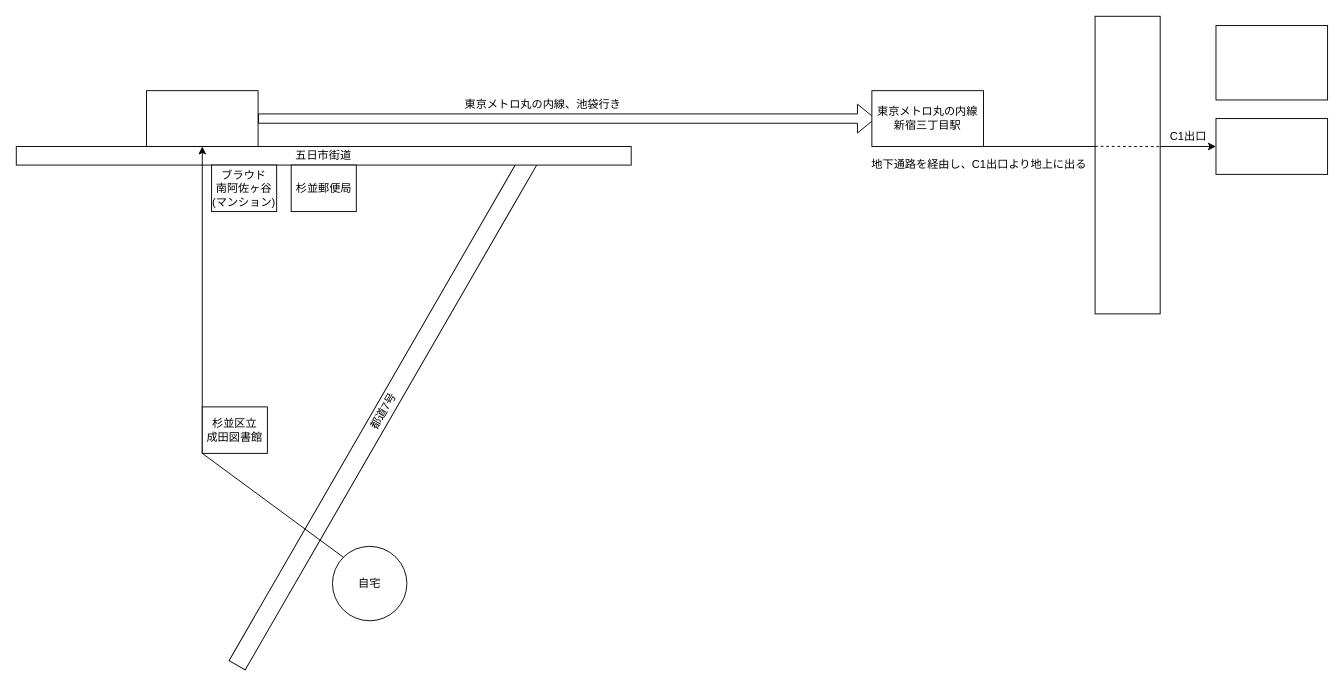
The diagram is 1344 pixels wide and 686 high, and some of its shapes have lost their labels. Here are the shapes that lost their labels. From the top down, the centre of each, then its label:
At (x=1271, y=62): "新宿バルト9 (映画館)".
At (x=202, y=118): "東京メトロ丸の内線 南阿佐ヶ谷駅".
At (x=1127, y=164): "旧甲州街道".
At (x=1271, y=146): "京王新宿三丁目ビル 4階".
